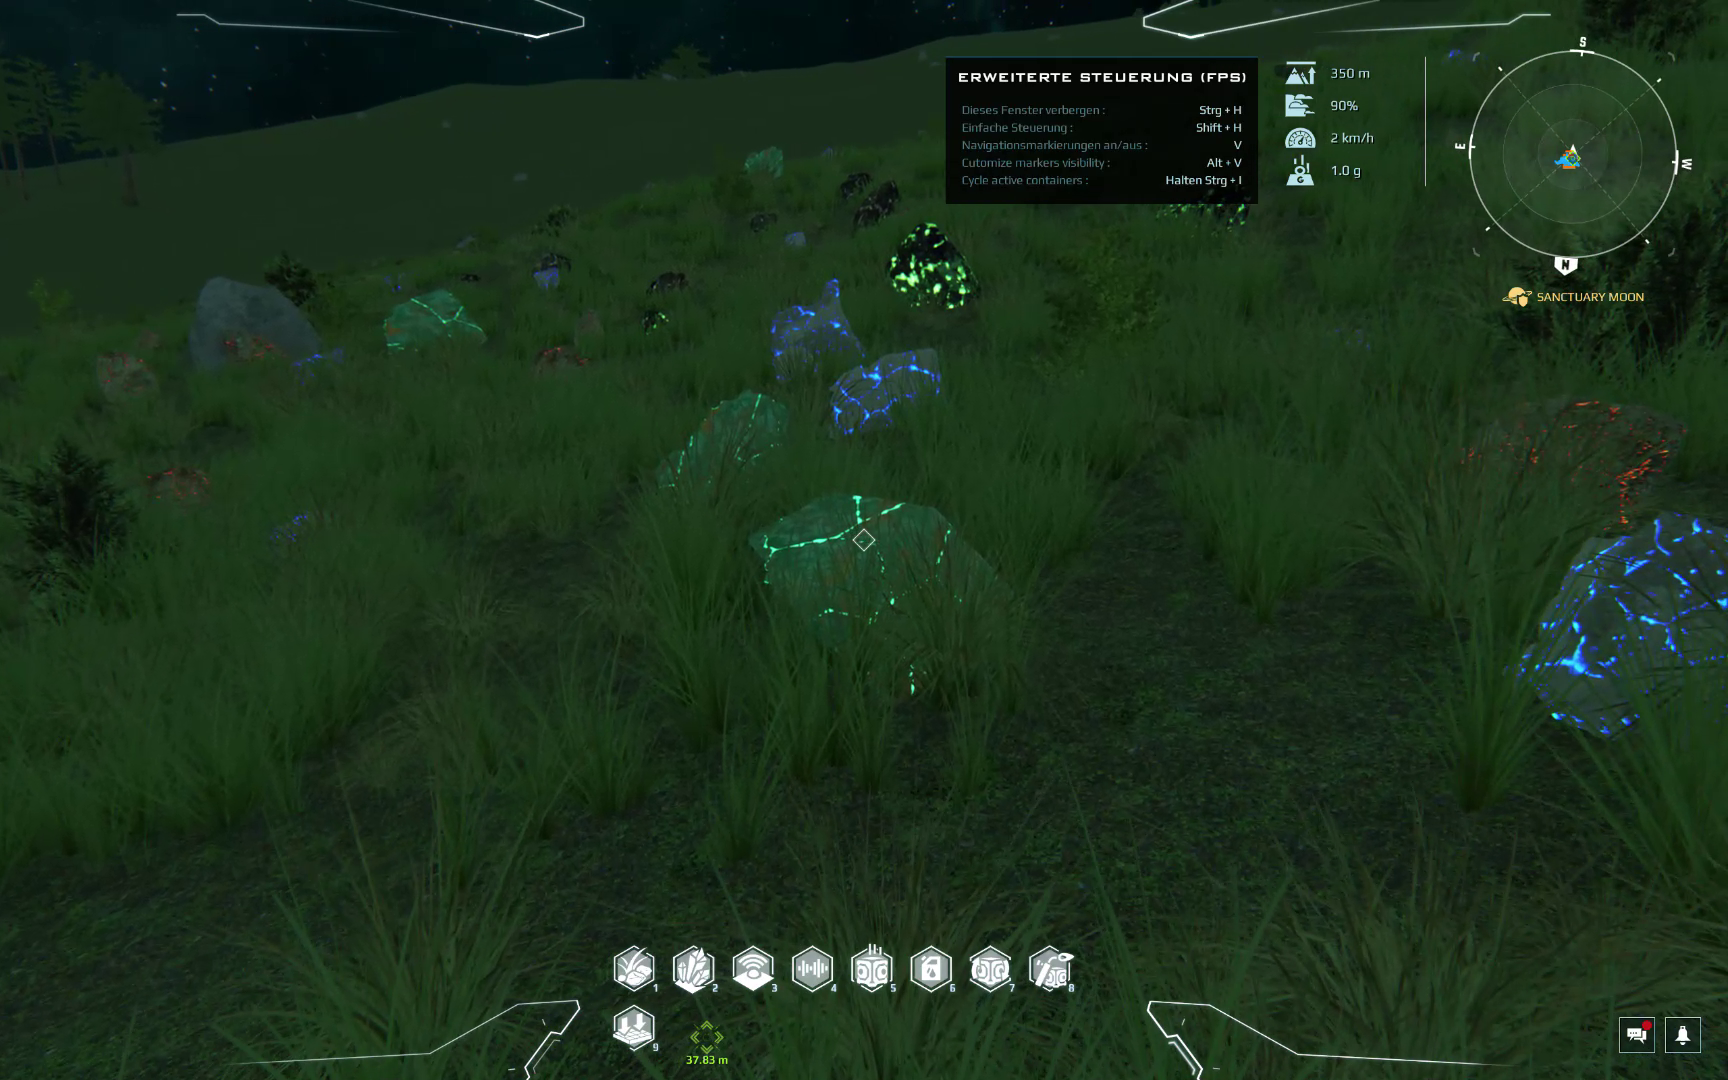Ore: (745, 483, 1023, 703), (1512, 509, 1728, 733), (1459, 384, 1718, 519), (636, 384, 787, 506), (821, 348, 953, 435), (764, 277, 858, 379), (886, 221, 983, 319), (377, 285, 491, 362), (85, 346, 168, 421), (216, 328, 292, 404), (834, 168, 901, 235), (129, 462, 215, 514), (265, 505, 333, 556), (530, 343, 605, 381), (295, 348, 343, 388), (642, 263, 690, 299), (638, 304, 681, 338), (527, 248, 572, 274), (452, 268, 491, 292), (746, 209, 783, 235)
